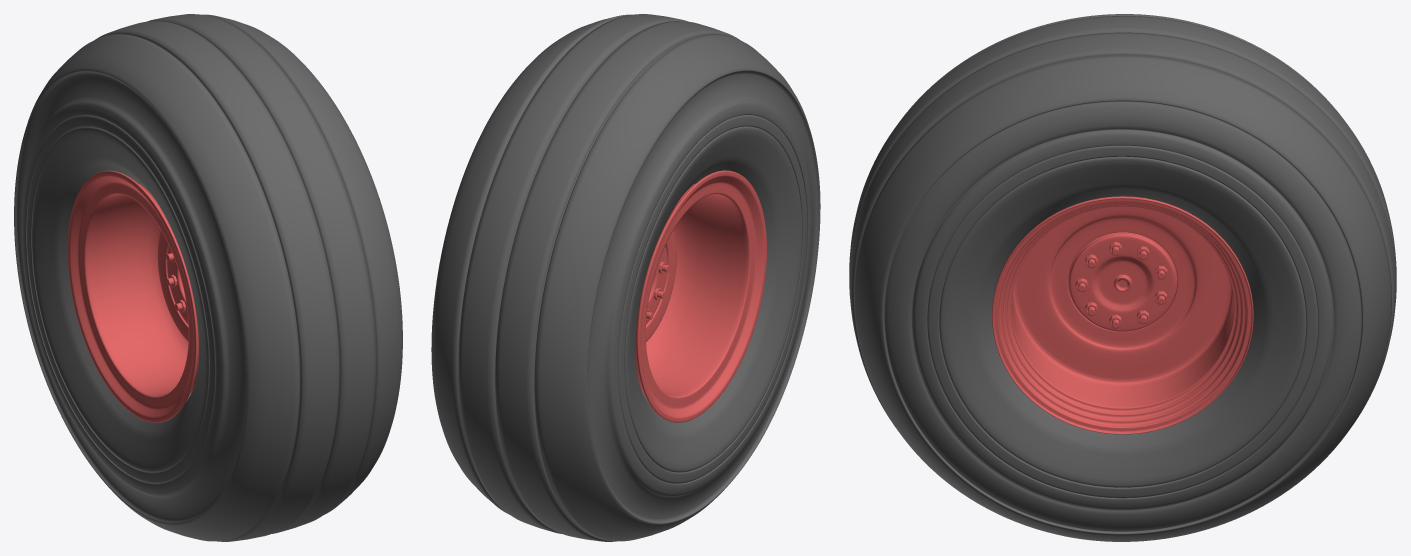
Rendered from Wheel.fbx.
3 views of the same model, side by side, from view 1: azimuth 30°, elevation 25°; view 2: azimuth 150°, elevation 25°; view 3: azimuth 270°, elevation 25° (orthographic). The views are drawn at different scales.
Visible parts, largest first — view 1: Tyre 2; view 2: Tyre 2; view 3: Tyre 2.
Boxes of the visible parts, bbox=[...] form: Tyre 2: bbox=[14, 14, 402, 541]; Tyre 2: bbox=[431, 14, 820, 541]; Tyre 2: bbox=[849, 14, 1396, 541].
Size of the model in its own units: 4069 by 10448 by 10497.
